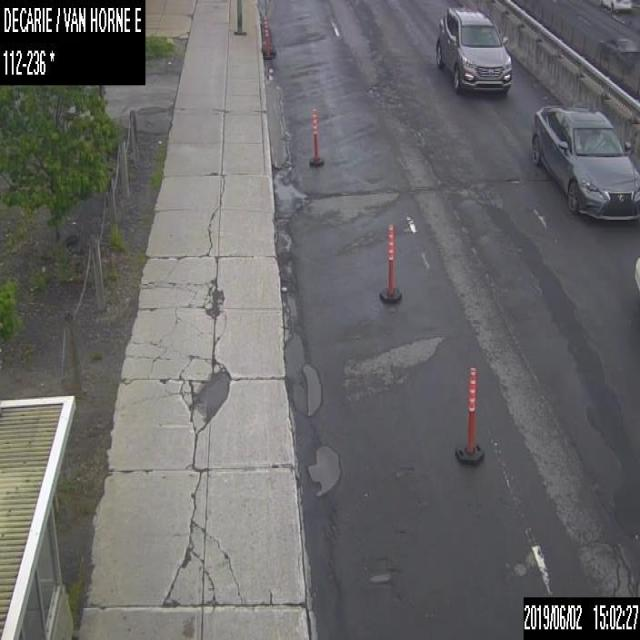construction: (456, 366, 484, 466), (378, 223, 401, 300), (308, 106, 324, 166), (263, 18, 271, 58)
vehicle: (533, 101, 639, 222), (434, 5, 512, 94), (596, 0, 632, 11), (633, 256, 639, 293)
